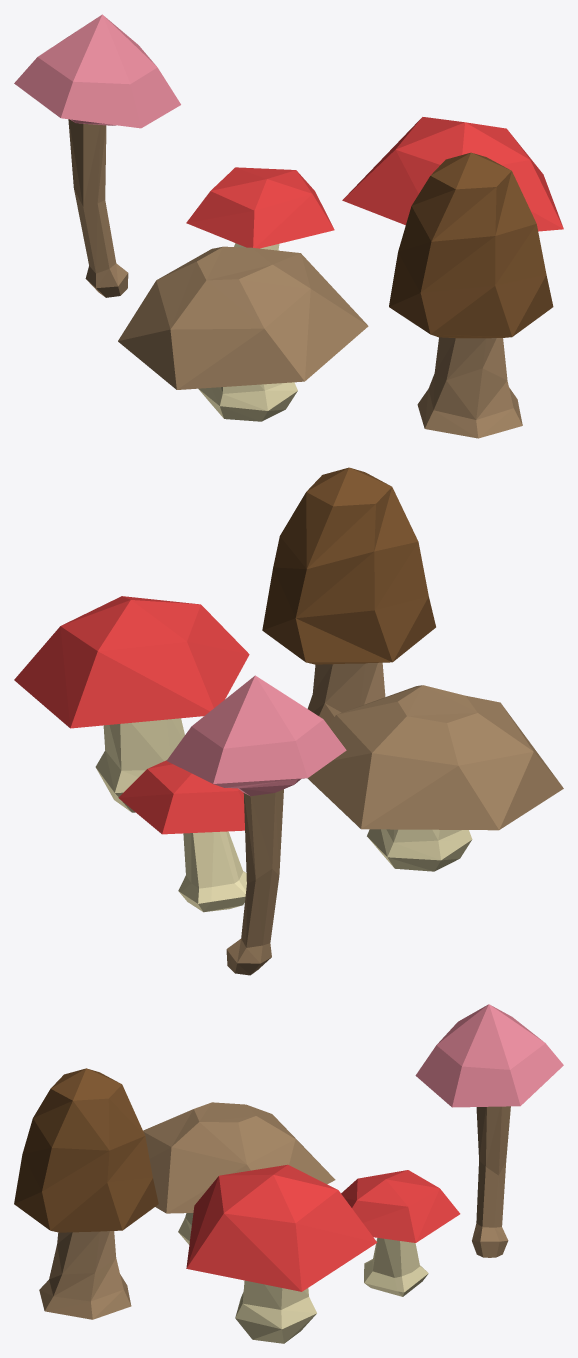
Rendered from Mushrooms.fbx.
The picture shows the model from 3 angles, top to bottom: view 1: azimuth 30°, elevation 25°; view 2: azimuth 150°, elevation 25°; view 3: azimuth 270°, elevation 25°; orthographic projection. The views are drawn at different scales.
Parts seen in each view (by area): view 1: FatMushroom; view 2: FatMushroom; view 3: FatMushroom.
Part boxes in pixels (x1,y1,x2,y2): FatMushroom: (14, 14, 563, 438); FatMushroom: (14, 467, 563, 975); FatMushroom: (14, 1004, 563, 1343).
Size of the model in its own units: 288 by 176 by 352.
